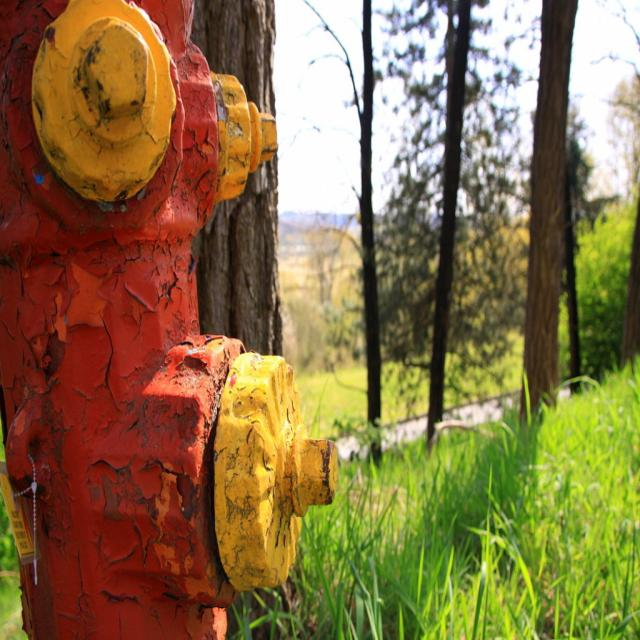fire_hydrant: (0, 0, 338, 639)
